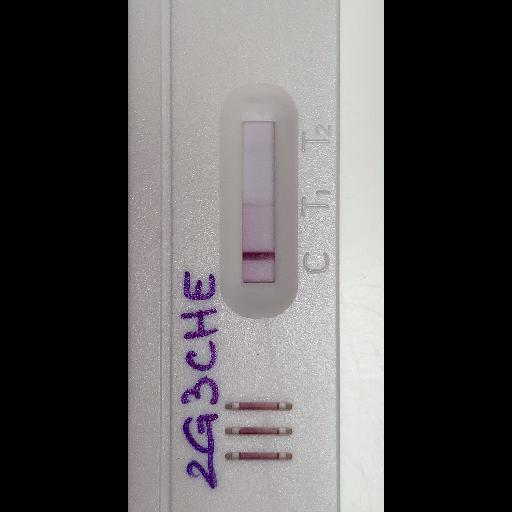Pos: (128, 0, 339, 511)
